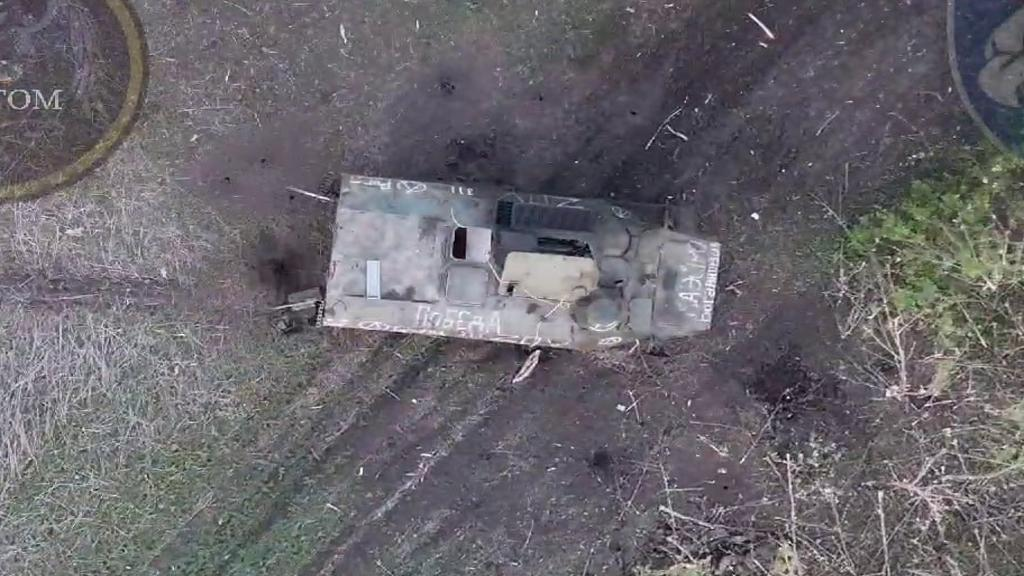APC-IFV: (279, 170, 722, 358)
